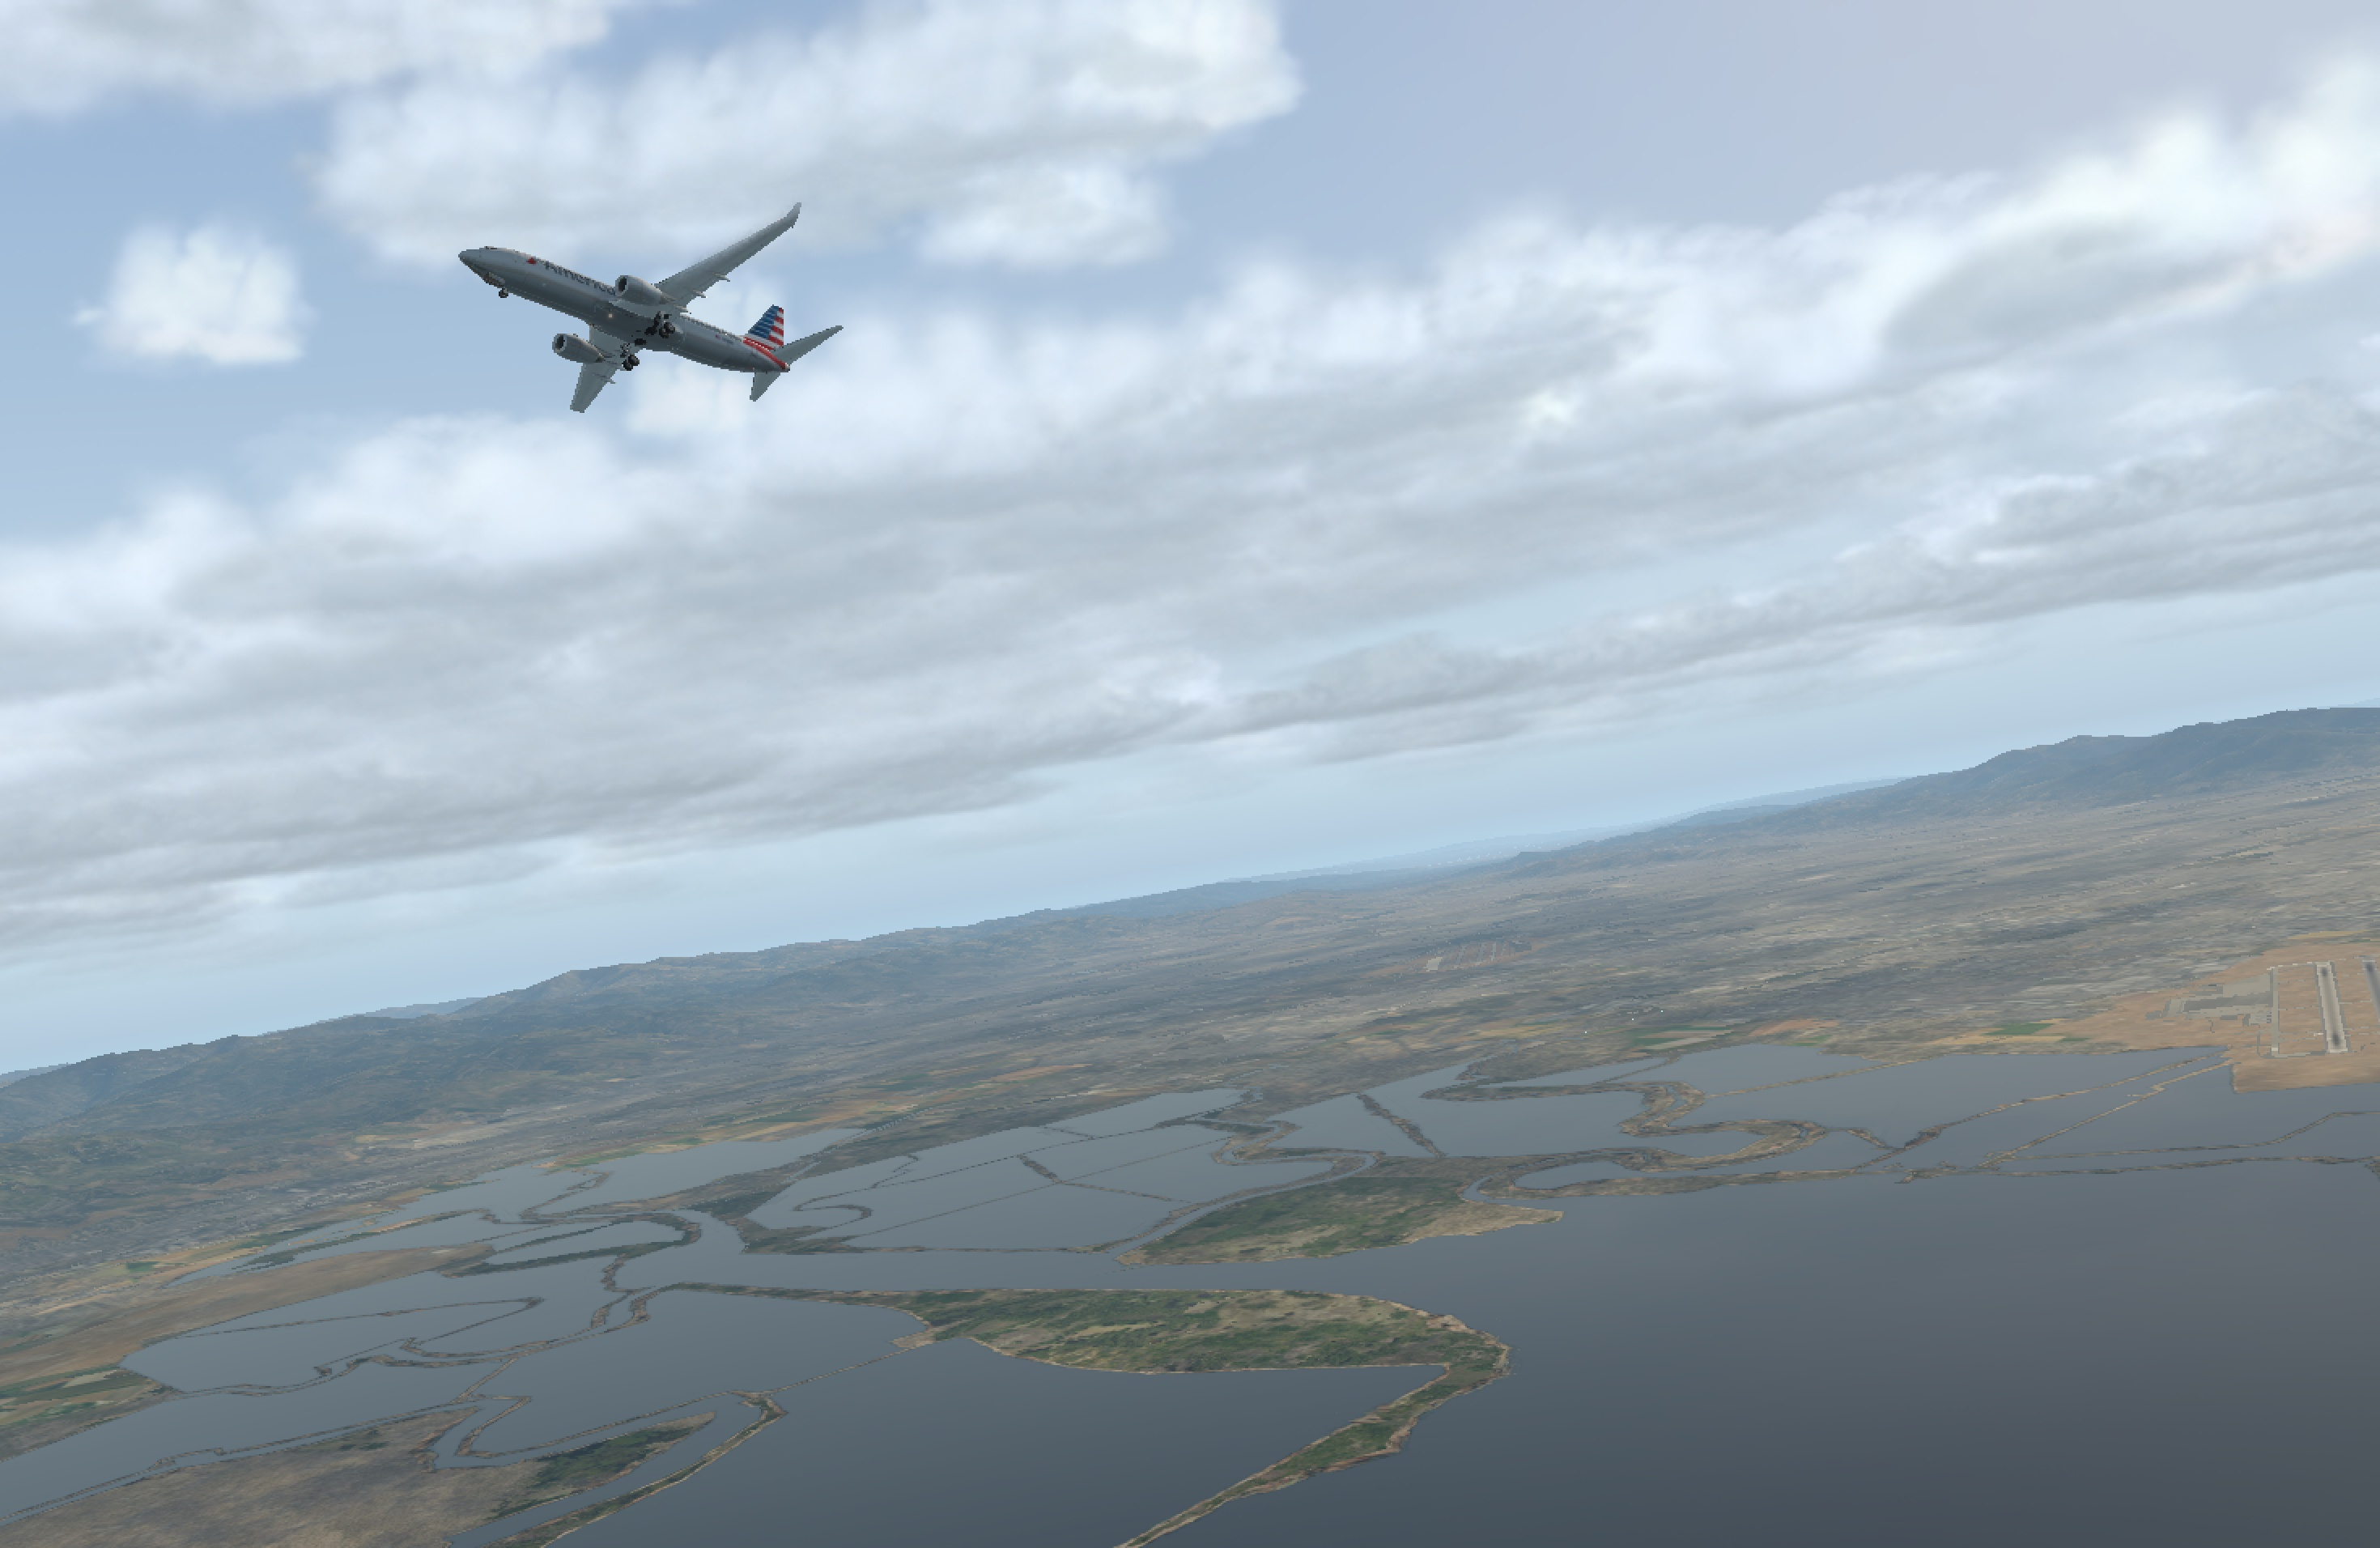aircraft: (437, 248, 827, 394)
